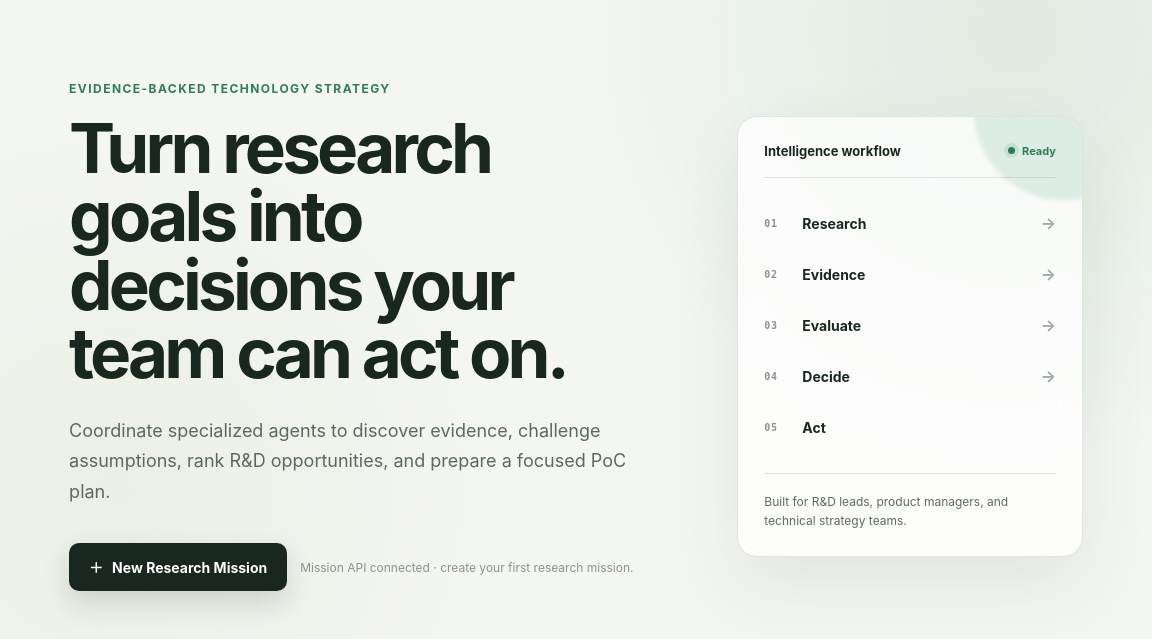
Test: mission workspace › closes and clears the form after the API creates a mission
Click the button "＋ New Research Mission" at (178, 568), box [69,544,287,592]
(page scrolled)
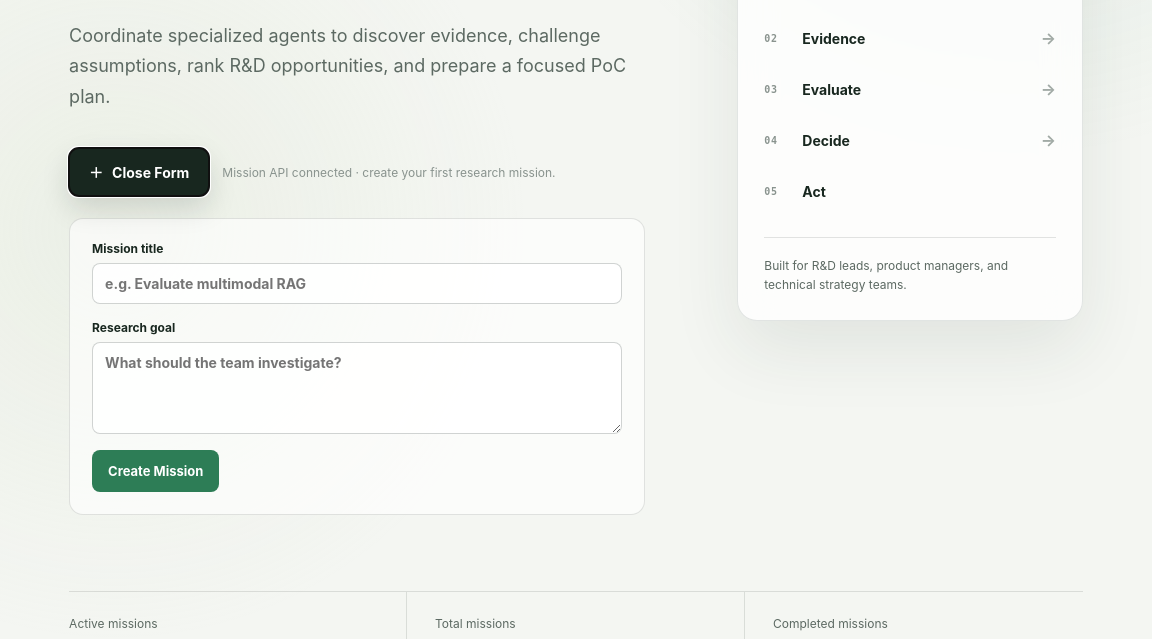
Type "Evaluate multimodal RAG" into the field labelled "Mission title" at (357, 284), box [92,264,622,304]
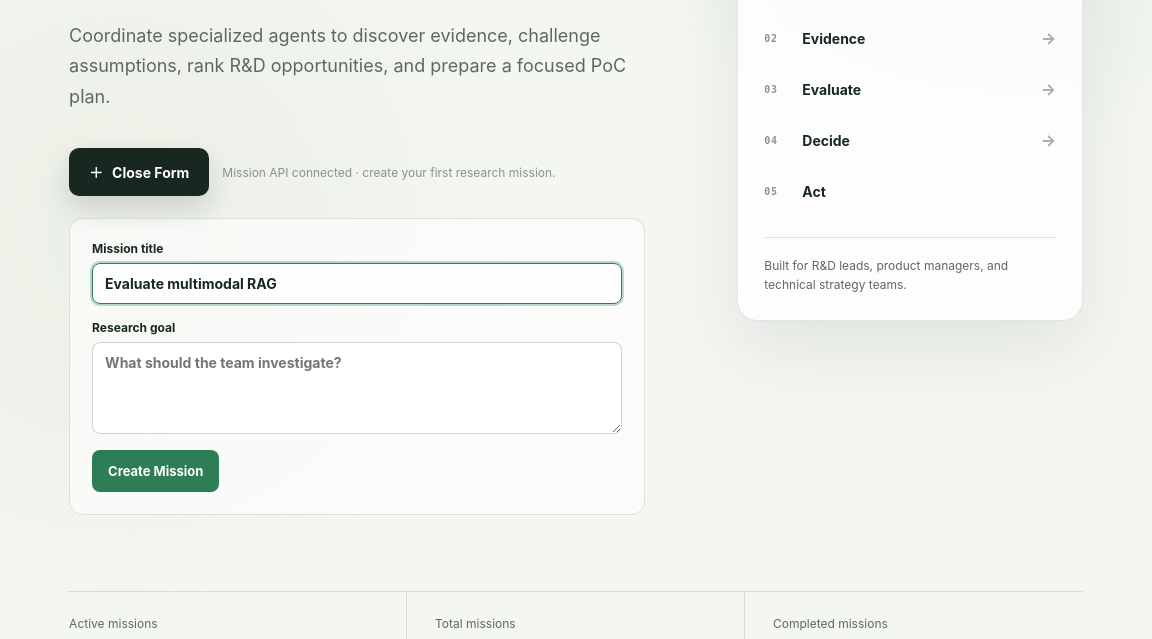
Type "Compare retrieval quality and implementation cost." into the text box labelled "Research goal" at (357, 388), box [92,342,622,434]
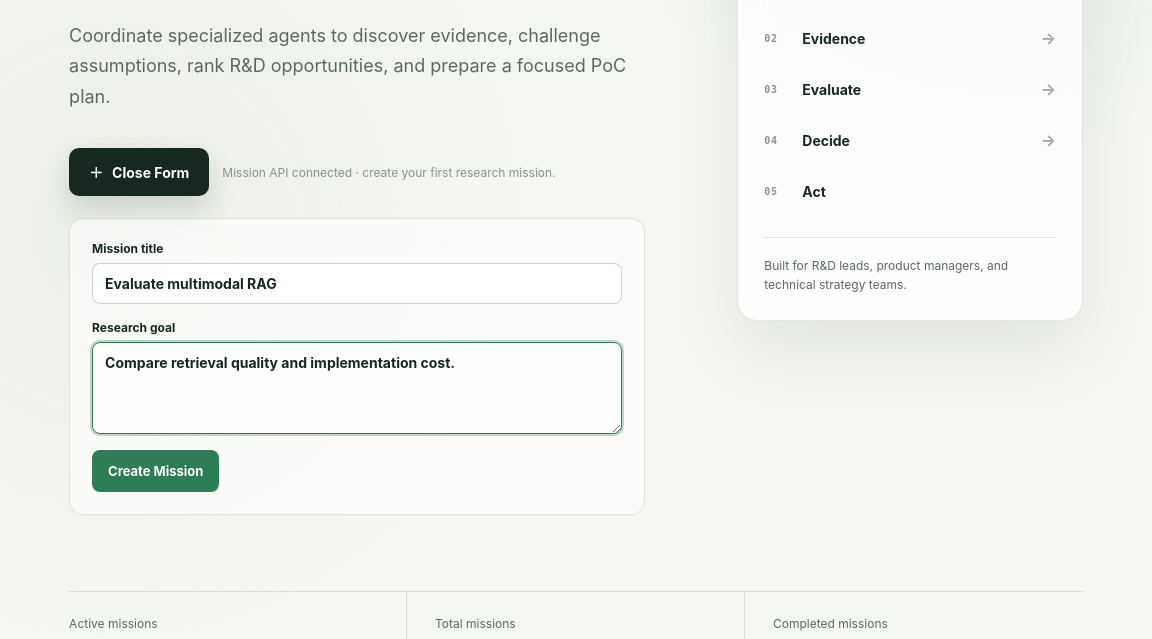
Click the button "Create Mission" at (156, 472), box [92,450,219,492]
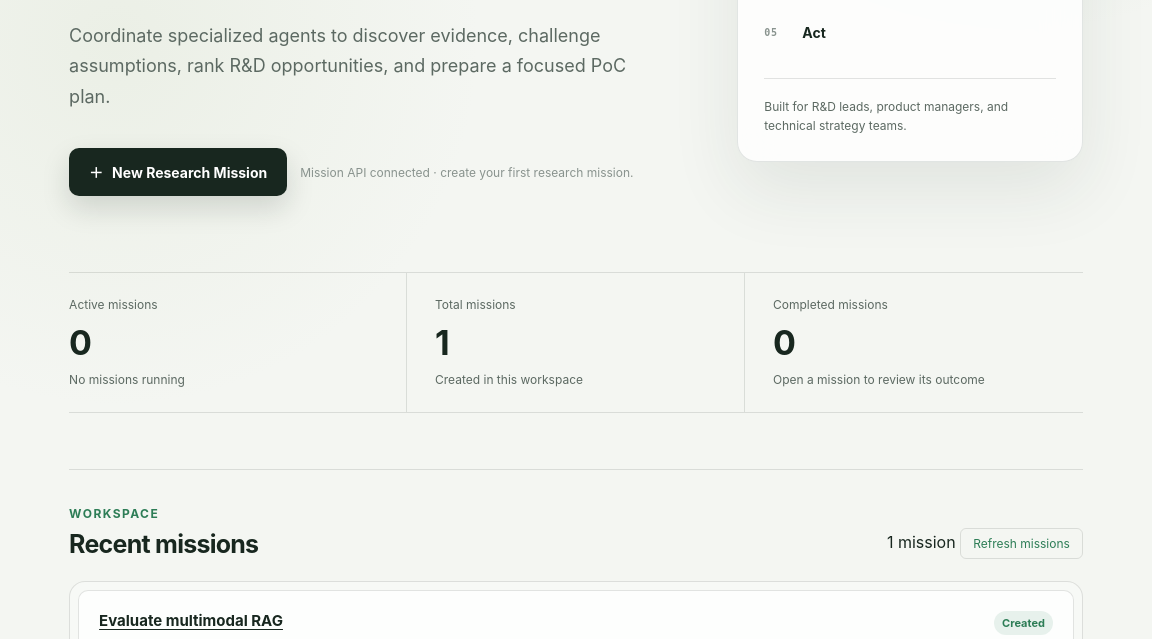
Expected: the heading "Evaluate multimodal RAG" is shown, [99,612,283,630]
Expected: the text "1 mission" is shown, [887,532,956,552]
Expected: the button "Create Mission" is gone
